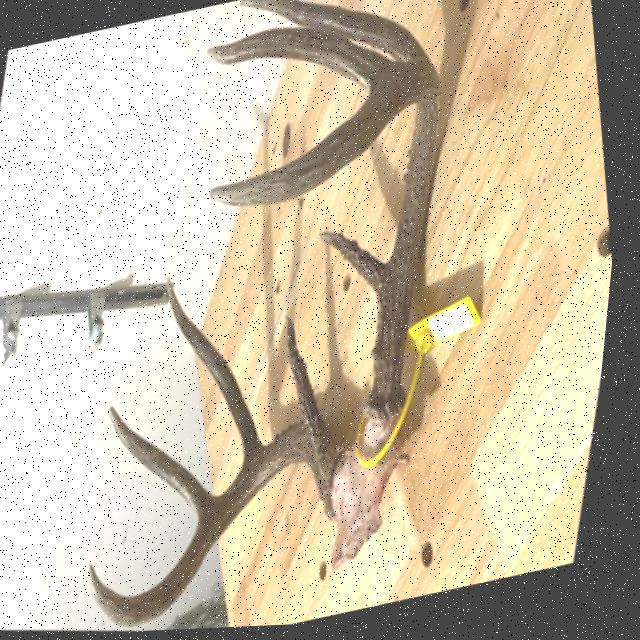L-F: (98, 423, 353, 628)
L-G1: (290, 317, 335, 454)
L-G2: (171, 273, 274, 470)
L-G3: (116, 406, 228, 528)
R-F: (212, 63, 444, 421)
R-G1: (322, 232, 394, 308)
R-G2: (238, 0, 430, 63)
R-G3: (205, 28, 395, 95)
